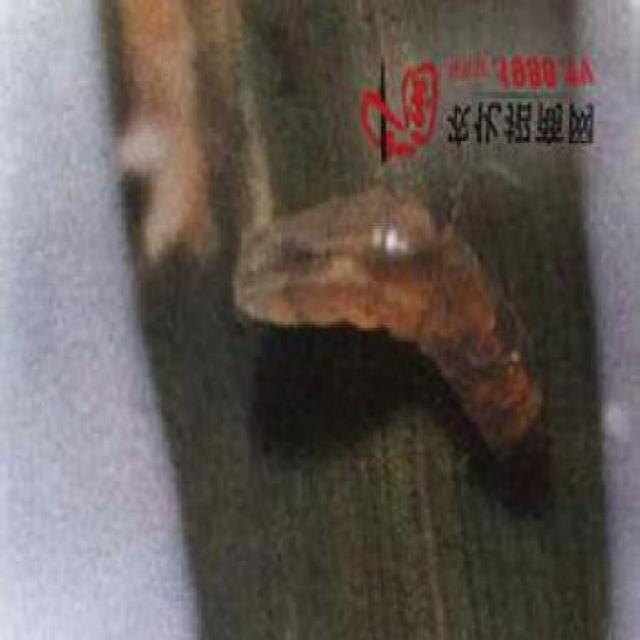whorl-maggot: (233, 193, 555, 473)
